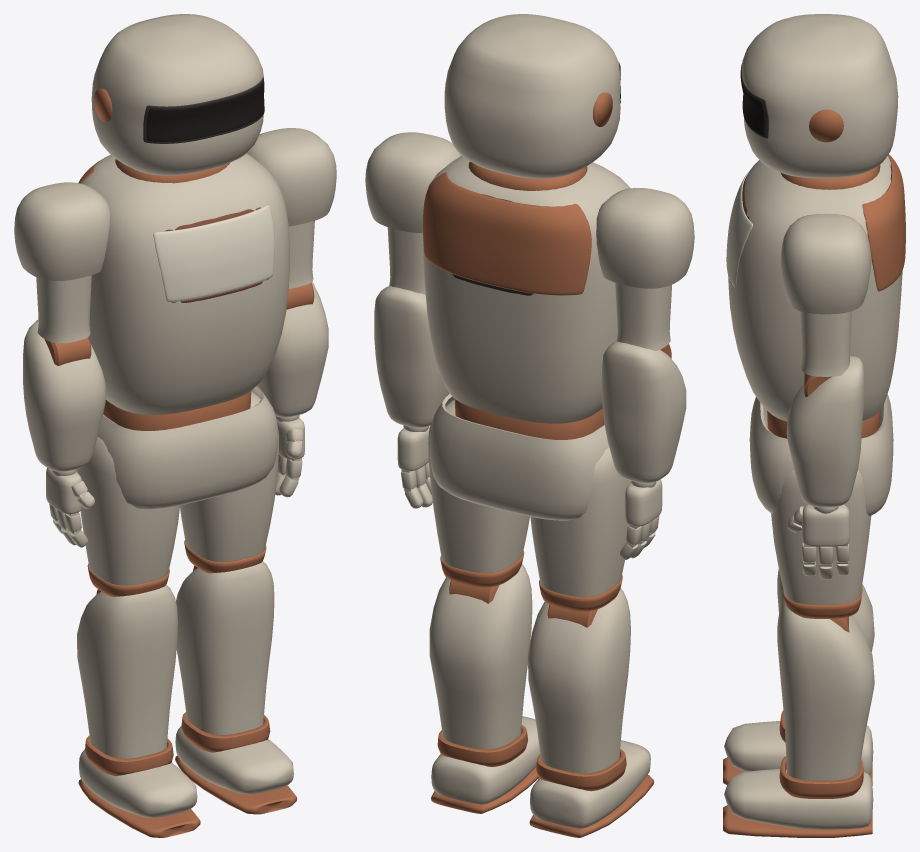
The model's file is opus-5.5.glb.
3 renders of one model, left to right at view 1: azimuth 30°, elevation 25°; view 2: azimuth 150°, elevation 25°; view 3: azimuth 270°, elevation 25°, orthographic. The views are drawn at different scales.
Visible parts, largest first — view 1: torso, head, shin_R, shin_L, pelvis, upper_R, thigh_R, fore_R, foot_R, foot_L, upper_L, thigh_L (+6 smaller); view 2: torso, head, shin_R, shin_L, pelvis, upper_R, thigh_R, fore_R, upper_L, thigh_L, fore_L, foot_R (+5 smaller); view 3: torso, head, shin_L, upper_L, foot_L, fore_L, thigh_L, pelvis, foot_R, hand_L, fingers_L, shin_R (+1 smaller).
Boxes of the visible parts, x1,y1,x2,y2 form: torso: (78, 153, 289, 430); head: (91, 14, 263, 175); shin_R: (77, 585, 177, 758); shin_L: (176, 561, 274, 734); pelvis: (97, 386, 277, 509); upper_R: (14, 182, 109, 365); thigh_R: (76, 437, 179, 596); fore_R: (23, 320, 105, 471); foot_R: (78, 735, 200, 837); foot_L: (175, 712, 297, 814); upper_L: (246, 128, 336, 309); thigh_L: (180, 391, 278, 573); torso: (422, 155, 630, 439); head: (444, 14, 620, 178); shin_R: (528, 588, 630, 773); shin_L: (429, 564, 532, 749); pelvis: (429, 394, 608, 520); upper_R: (596, 188, 694, 358); thigh_R: (530, 447, 630, 627); fore_R: (601, 341, 686, 483); upper_L: (365, 132, 461, 294); thigh_L: (428, 400, 529, 603); fore_L: (374, 286, 449, 427); foot_R: (529, 740, 654, 837); torso: (726, 154, 905, 438); head: (741, 14, 898, 178); shin_L: (777, 598, 874, 780); upper_L: (780, 213, 871, 396); foot_L: (723, 756, 873, 837); fore_L: (786, 355, 864, 507); thigh_L: (771, 470, 871, 632); pelvis: (749, 394, 893, 515); foot_R: (723, 710, 873, 785); hand_L: (787, 504, 849, 546); fingers_L: (802, 542, 849, 579); shin_R: (777, 569, 874, 651).
Bounding box in the file's own units: 0.8251 × 1.95 × 0.4197.
